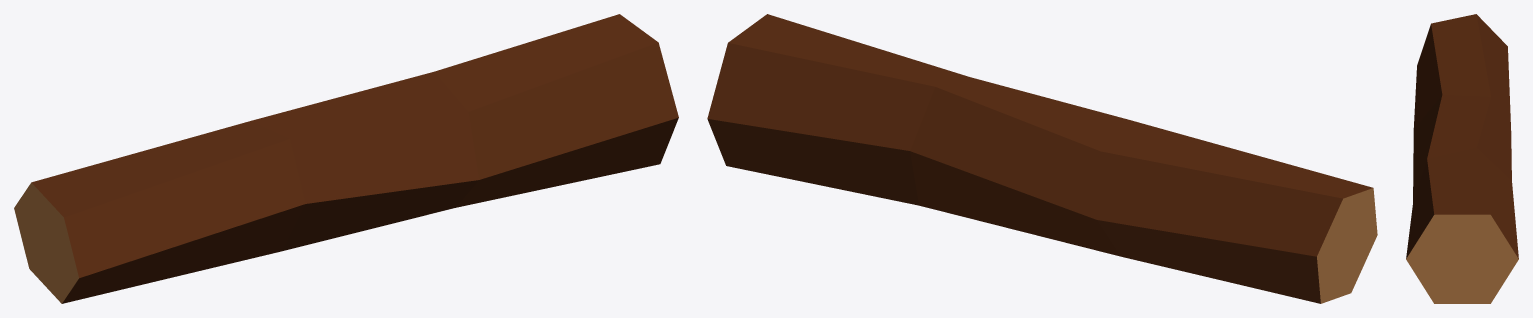
The model's file is WoodLog2.fbx.
3 renders of one model, left to right at view 1: azimuth 30°, elevation 25°; view 2: azimuth 150°, elevation 25°; view 3: azimuth 270°, elevation 25°, orthographic. The views are drawn at different scales.
Parts seen in each view (by area): view 1: Cylinder; view 2: Cylinder; view 3: Cylinder.
Boxes of the visible parts, x1,y1,x2,y2 form: Cylinder: (14, 14, 678, 303); Cylinder: (707, 14, 1377, 303); Cylinder: (1406, 14, 1518, 303).
Size of the model in its own units: 7.03 by 1.41 by 1.58.
